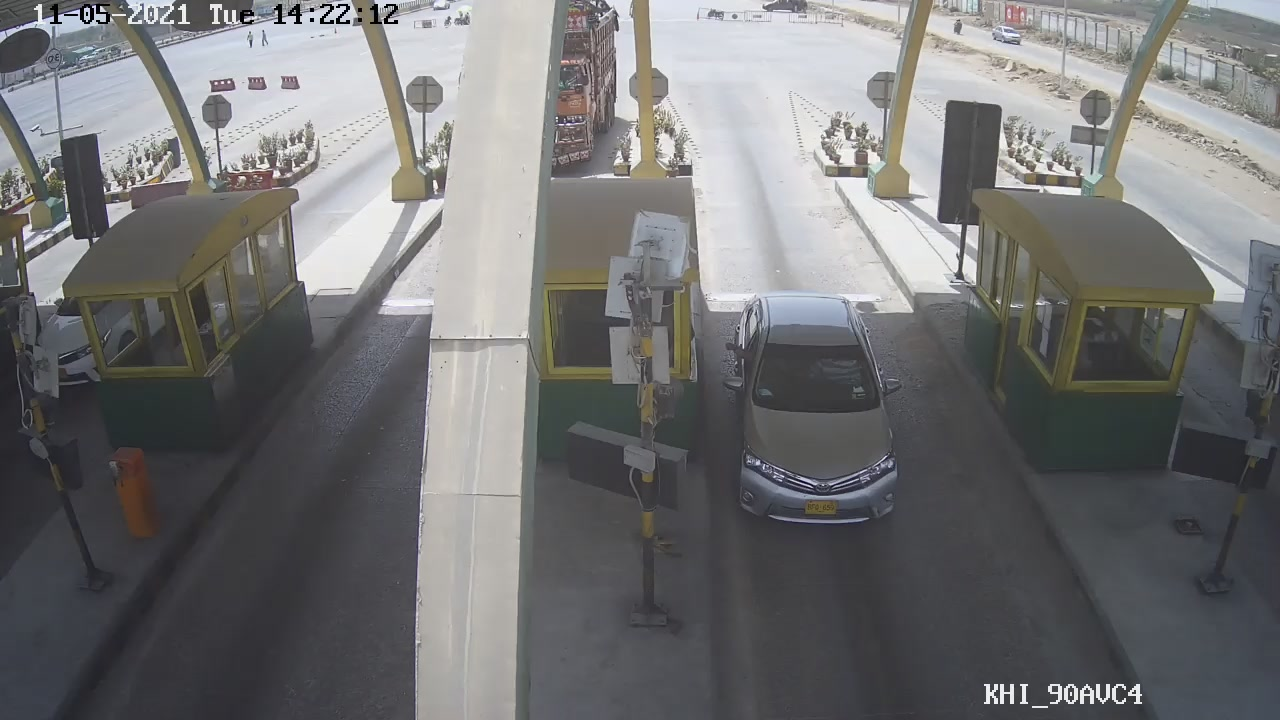F1: (715, 292, 912, 526)
